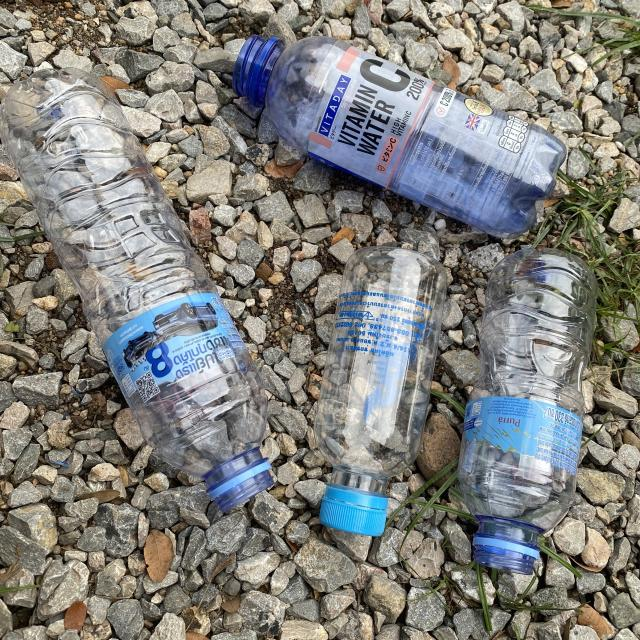plastik: (0, 69, 274, 511), (232, 35, 566, 238), (458, 249, 598, 574), (314, 246, 446, 536)
